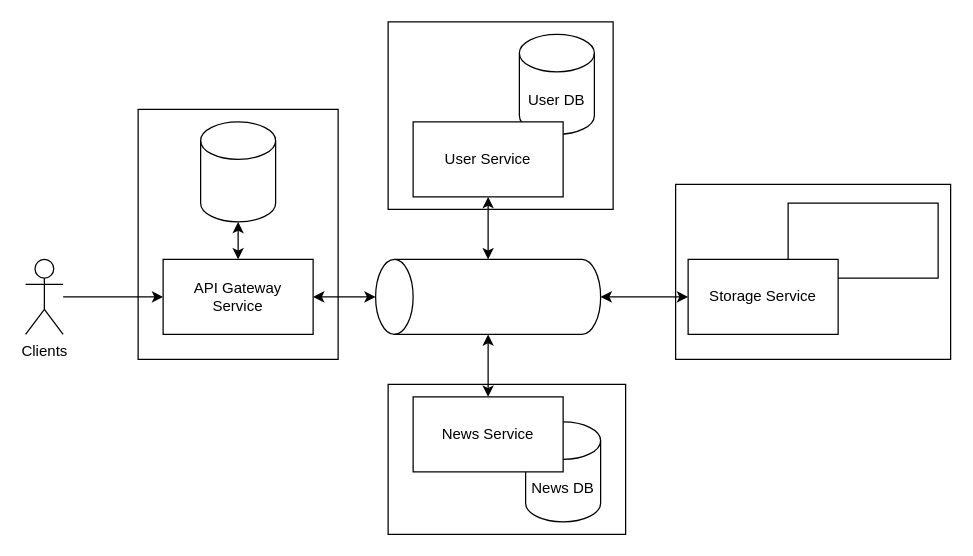
This 973x556 diagram has some shape labels left out. The shapes that lost their labels are listed below. From the top down, each one's centre as x and y in pixels, then its label:
(x=237, y=171): Redis
(x=862, y=240): Filesystem (for storing uploaded files)
(x=487, y=296): RabbitMQ instance
